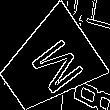M_SW: (17, 31, 81, 98)
